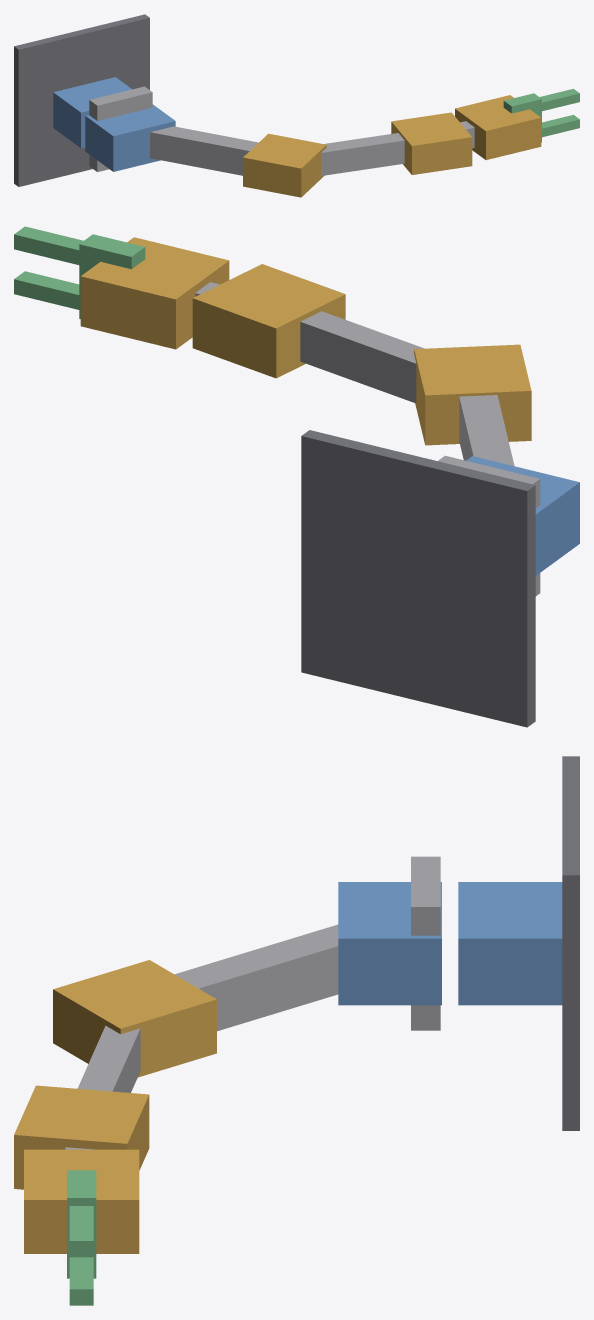
File: arm_assembly.glb
3 views of the same model, one above another, from view 1: azimuth 30°, elevation 25°; view 2: azimuth 150°, elevation 25°; view 3: azimuth 270°, elevation 25° (orthographic). The views are drawn at different scales.
Visible parts, largest first — view 1: world; view 2: world; view 3: world.
Boxes of the visible parts, x1,y1,x2,y2 form: world: (14,14,579,197); world: (14,226,579,727); world: (14,756,579,1305).
Bounding box in the file's own units: 310 × 95 × 191.
